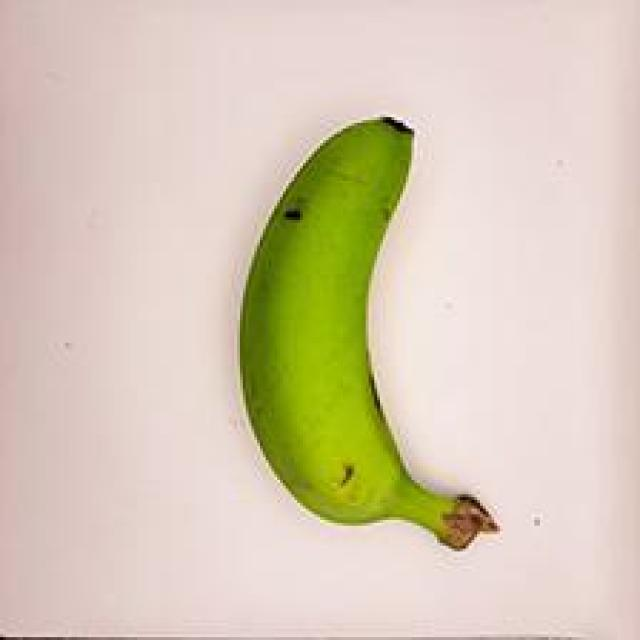Unripe: (204, 87, 516, 566)
